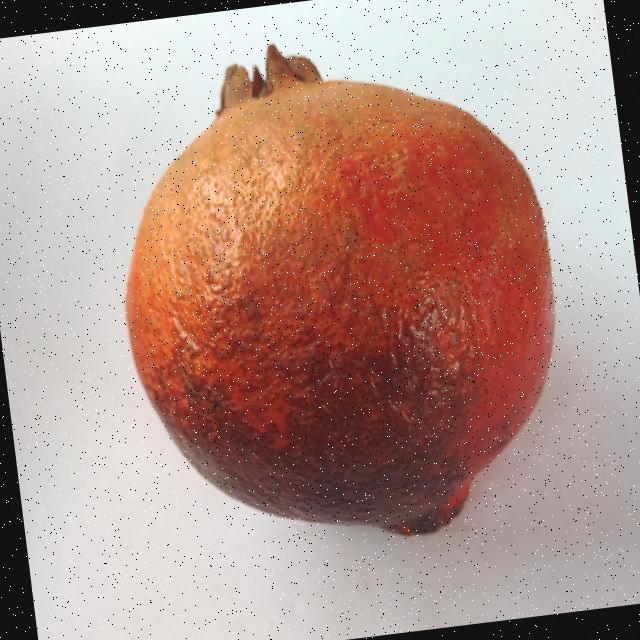overripe: (90, 16, 588, 573)
